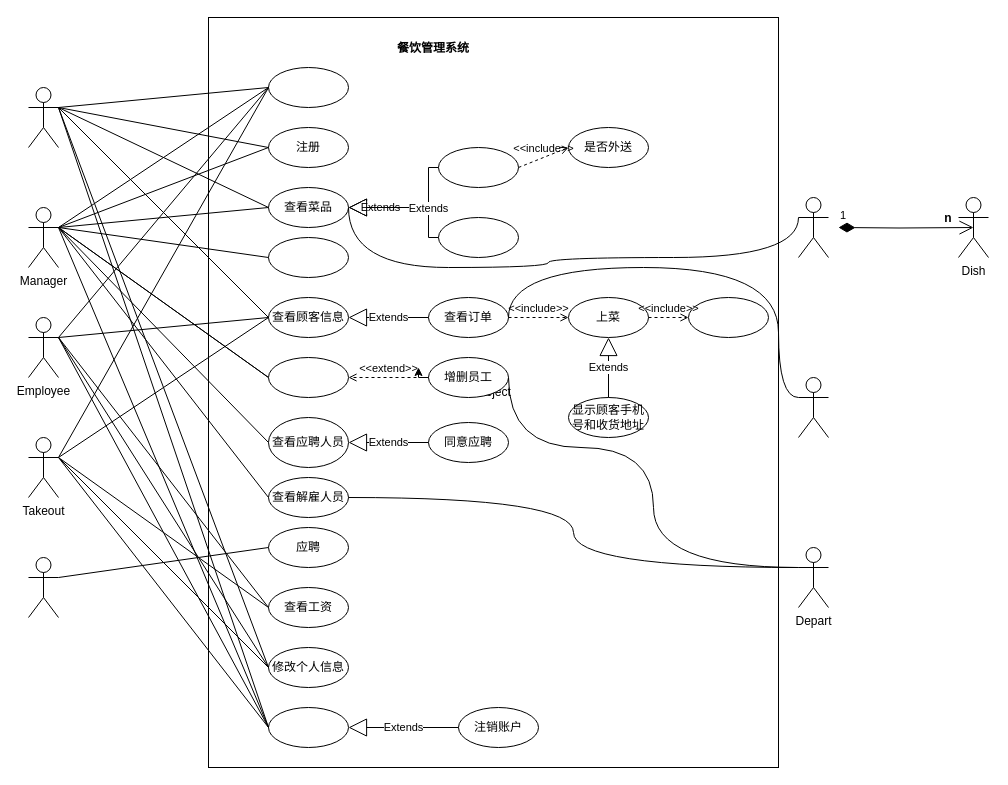
This 1008x785 diagram has some shape labels left out. The shapes that lost their labels are listed below. From the top down, each one's centre as x and y in pixels, then its label:
pixel 308 87: 登录
pixel 43 117: Customer
pixel 478 167: 购买菜
pixel 478 237: 增删菜
pixel 813 227: Menus
pixel 308 257: 查看盈余
pixel 728 317: 订单完成
pixel 308 377: 查看员工信息
pixel 813 407: Orders
pixel 43 587: Apply
pixel 308 727: 辞职
